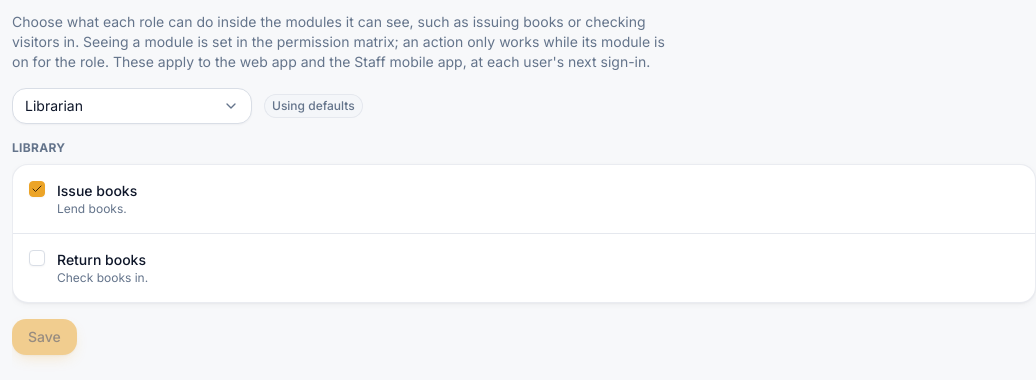
Scenario: StaffActionsTab › only offers actions for the modules the role can see
Expected: the text "Library" is shown, [12,140,65,155]
Click the dropdown named "Role". click: [132, 106]
box: [12,88,252,124]
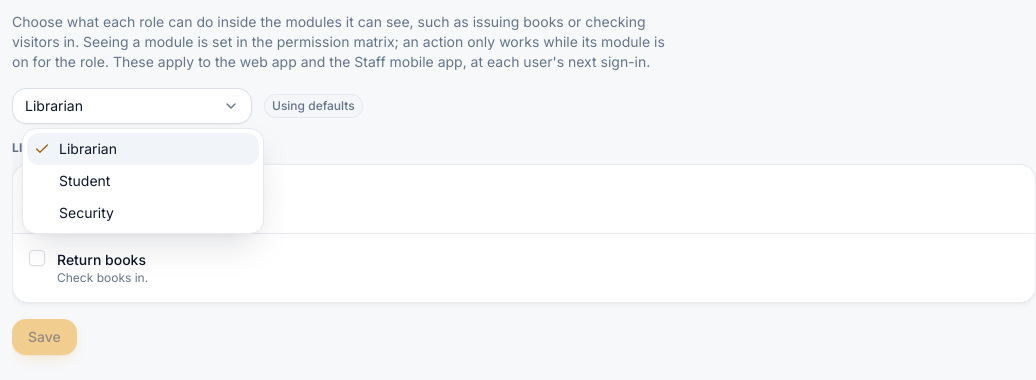
Click the option "Security". click: [86, 212]
box: [59,204,114,221]
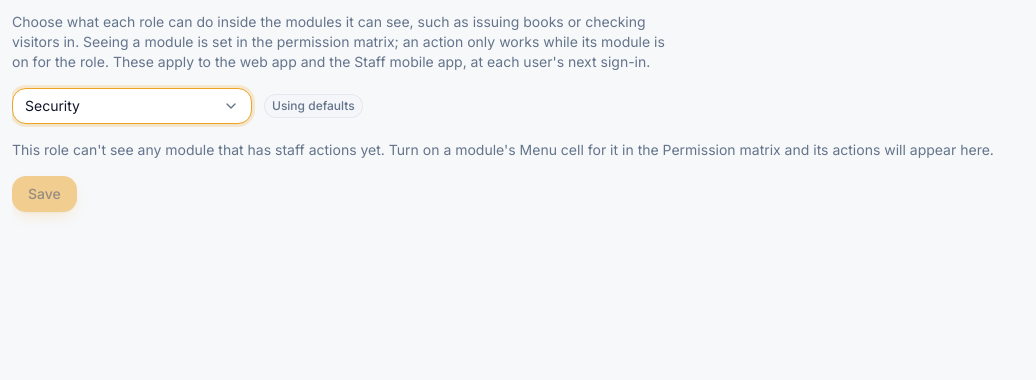
Result: the text "can't see any module that has staff actions" is shown at [12,141,994,158]
Result: the text "Library" is gone
